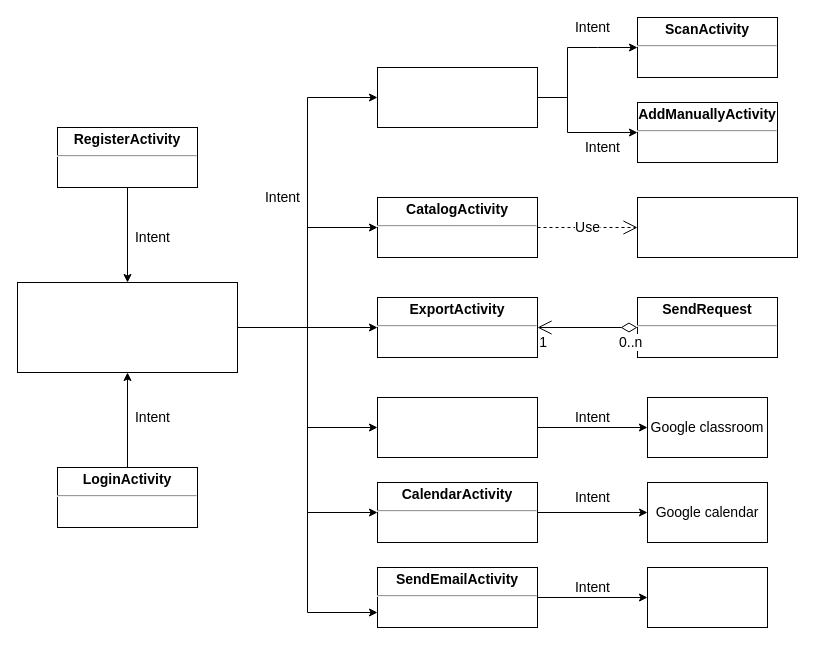
Some shapes in this 815 by 645 pixel diagram are drawn without their labels. Each missing label, with the box of its shape:
ClassroomActivity: (376, 396, 538, 458)
Gmail: (646, 566, 768, 628)
MenuActivity: (16, 282, 238, 372)
RecyclerView Adapter: (636, 196, 798, 258)
SubjectInfoActivity: (376, 66, 538, 128)
